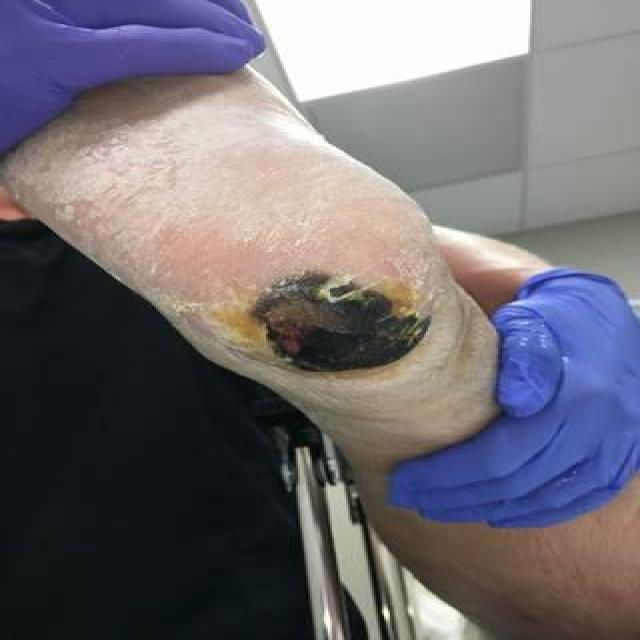Unstageable: (207, 275, 430, 371)
